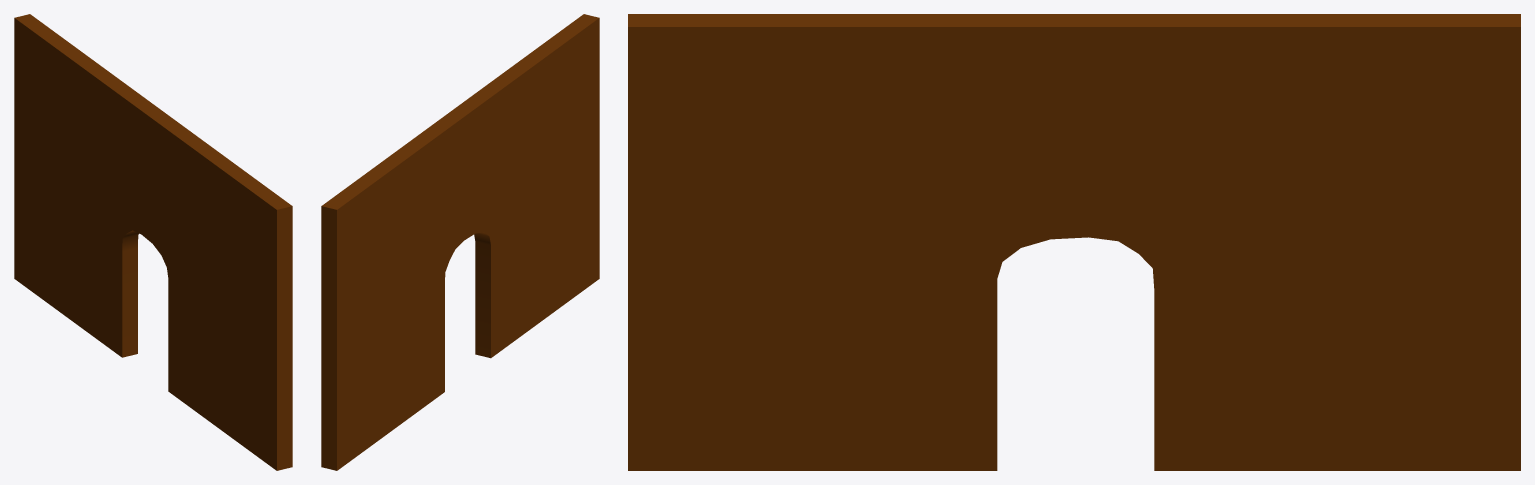
File: Prop_WallDoor.FBX
3 views of the same model, side by side, from view 1: azimuth 30°, elevation 25°; view 2: azimuth 150°, elevation 25°; view 3: azimuth 270°, elevation 25° (orthographic). The views are drawn at different scales.
Visible parts, largest first — view 1: WallDoor; view 2: WallDoor; view 3: WallDoor.
Part boxes in pixels (bbox=[...]): WallDoor: bbox=[14, 14, 292, 470]; WallDoor: bbox=[321, 14, 599, 470]; WallDoor: bbox=[628, 14, 1520, 470].
Size of the model in its own units: 24.72 by 394 by 717.
